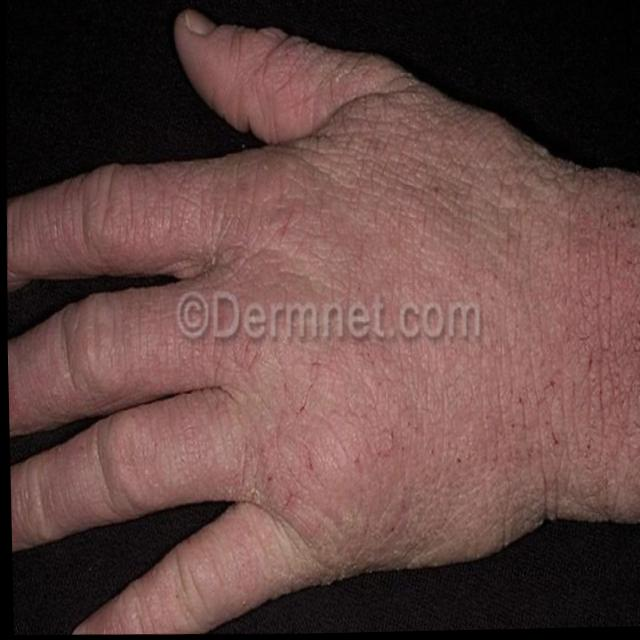liquenificacion 1: (4, 32, 640, 559)
